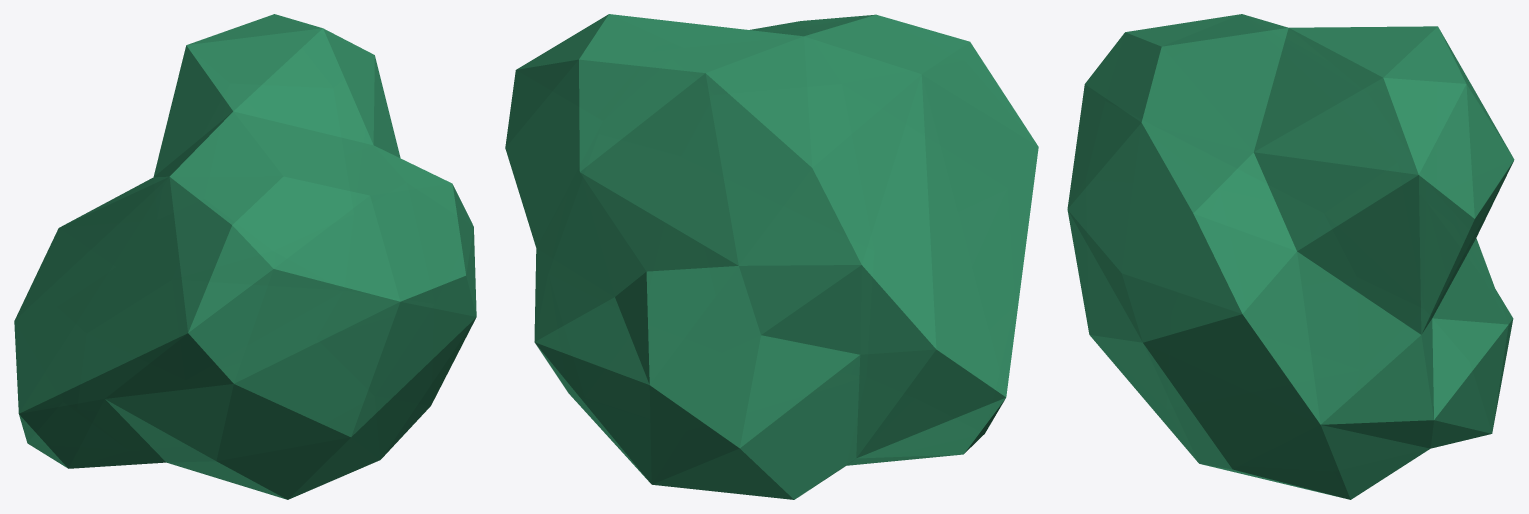
Rendered from emerald piece 1.glb.
The picture shows the model from 3 angles, left to right: view 1: azimuth 30°, elevation 25°; view 2: azimuth 150°, elevation 25°; view 3: azimuth 270°, elevation 25°; orthographic projection. The views are drawn at different scales.
Visible parts, largest first — view 1: Cube.001; view 2: Cube.001; view 3: Cube.001.
Boxes of the visible parts, box(x1,y1,x2,y2) form: Cube.001: box(14, 14, 476, 499); Cube.001: box(505, 14, 1038, 499); Cube.001: box(1067, 14, 1514, 499).
Bounding box in the file's own units: 0.046 × 0.0401 × 0.0388.
